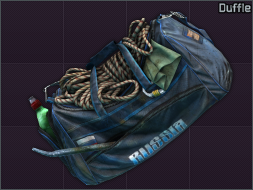Duffle bag: (0, 0, 253, 190)
